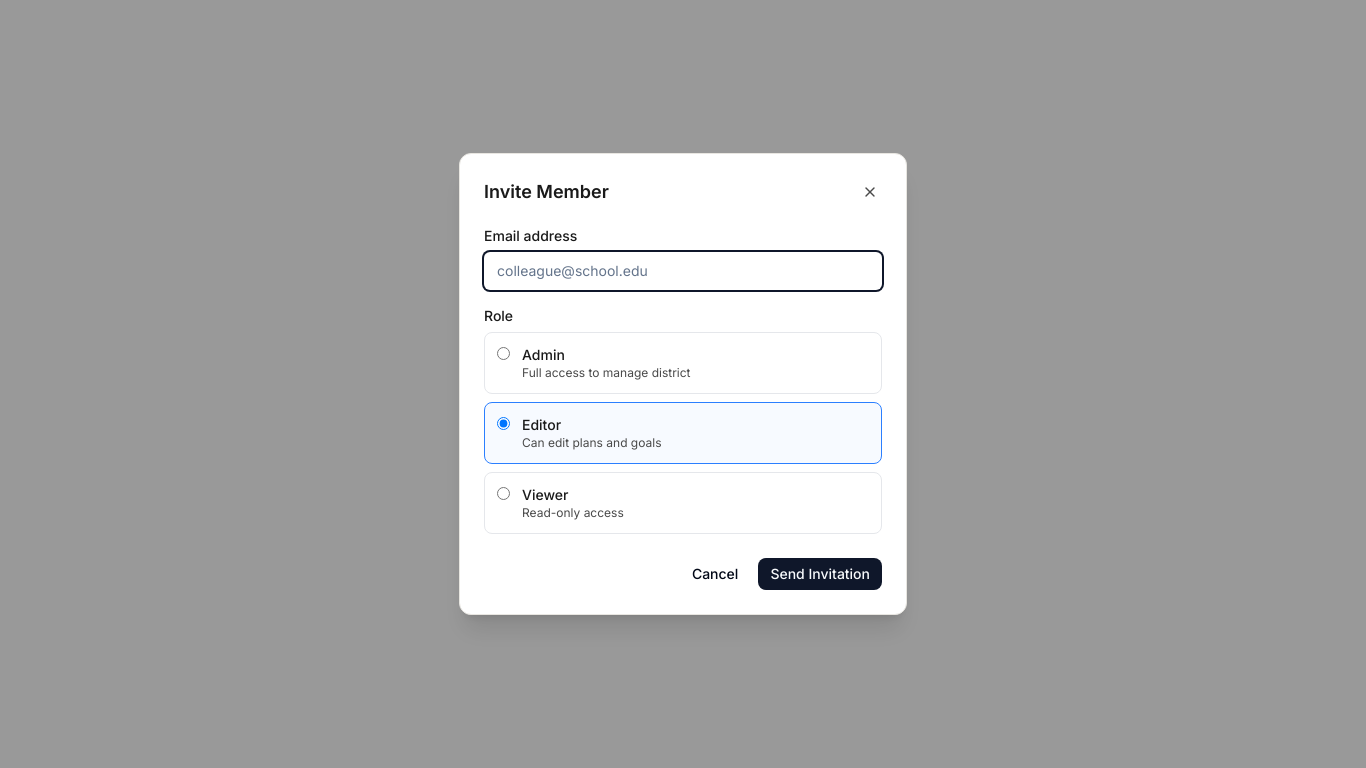
Test: InviteModal › shows validation error for empty email
The image size is (1366, 768).
Click the button "Send Invitation" at (820, 574), box [758, 558, 882, 590]
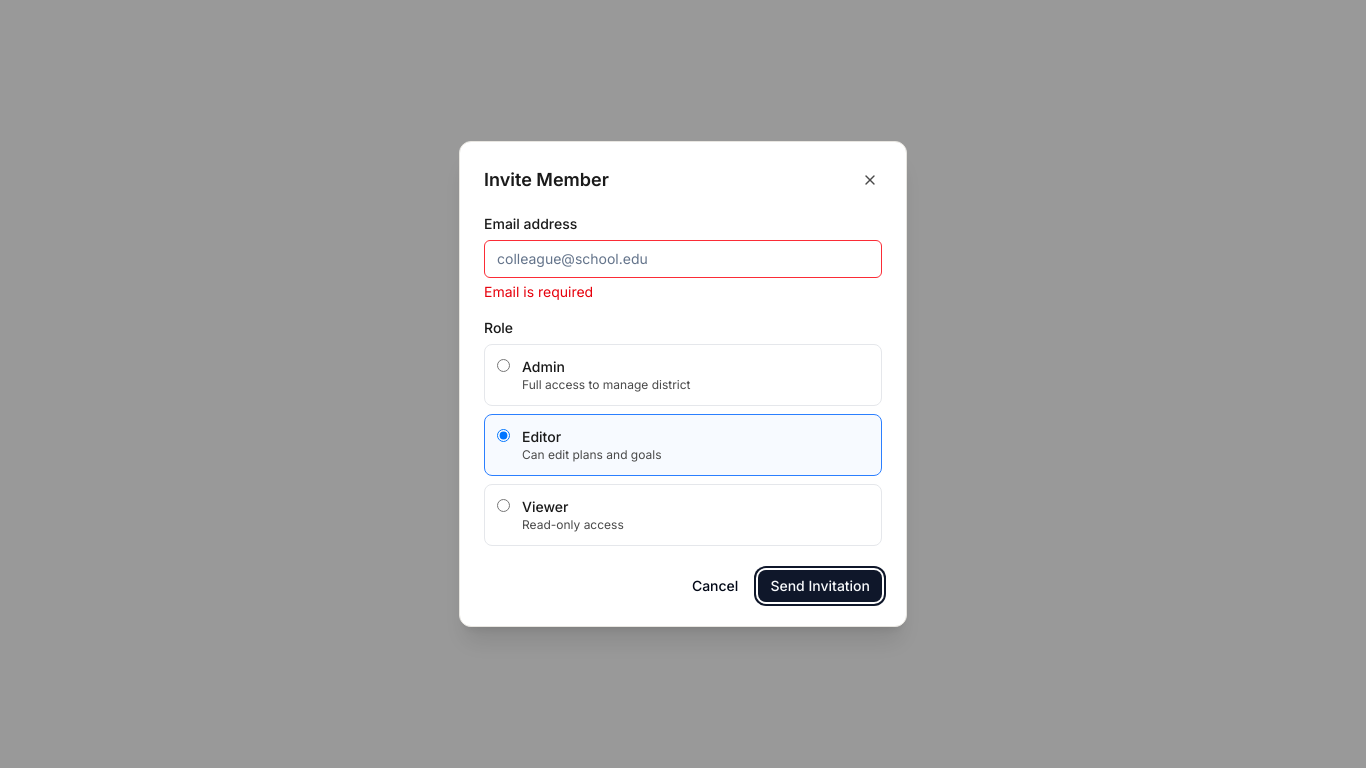
Expected: the text "Email is required" is shown, [484, 283, 593, 300]
